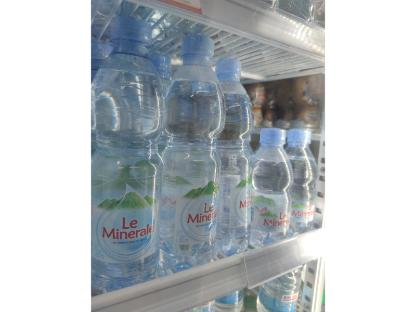Plastic Bottle: (76, 12, 164, 296), (154, 31, 224, 284), (208, 55, 254, 280), (250, 125, 292, 254), (286, 126, 322, 246)
